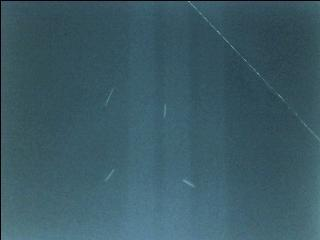crack: (189, 0, 320, 140)
scratch: (97, 82, 122, 111), (152, 100, 177, 124), (176, 173, 202, 194), (99, 164, 120, 187)
